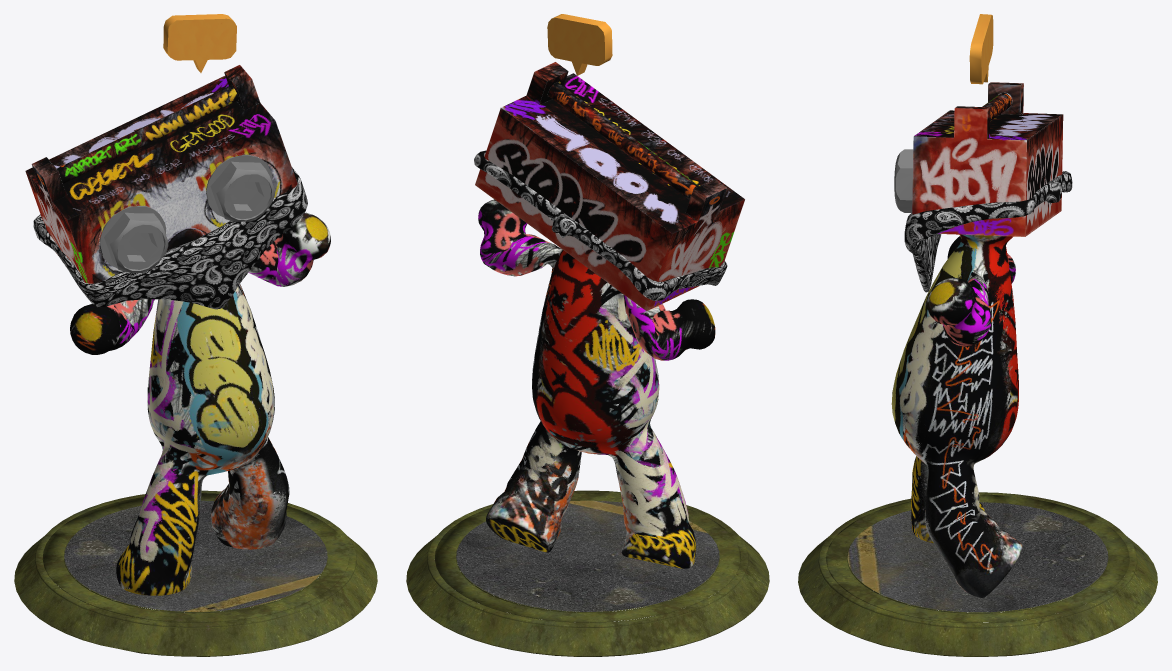
The picture shows the model from 3 angles, left to right: view 1: azimuth 30°, elevation 25°; view 2: azimuth 150°, elevation 25°; view 3: azimuth 270°, elevation 25°; orthographic projection.
Visible parts, largest first — view 1: BBody; view 2: BBody; view 3: BBody.
Boxes of the visible parts, box(x1,y1,x2,y2) form: BBody: box(14, 14, 377, 656); BBody: box(406, 14, 769, 656); BBody: box(798, 14, 1157, 656).
Bounding box in the file's own units: 1.45 × 2.48 × 1.45.
7 materials, 6 textured.
